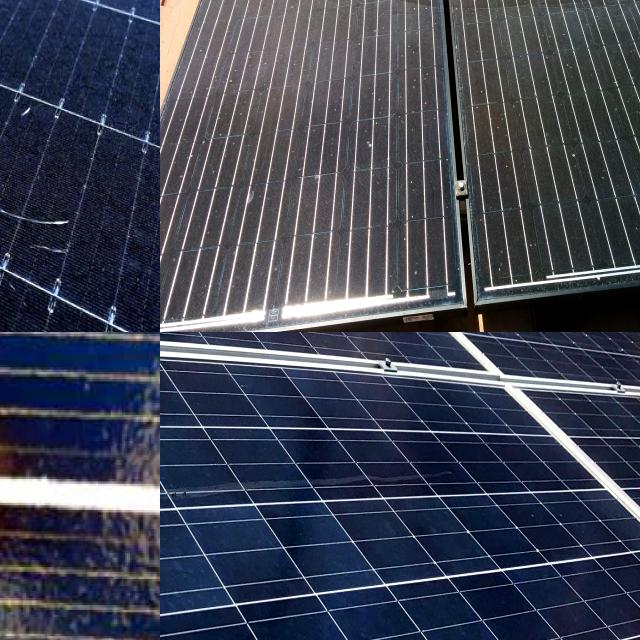bird: (0, 125, 117, 279)
dust: (230, 0, 428, 306), (292, 377, 485, 640), (457, 0, 585, 284), (160, 362, 274, 640), (590, 14, 640, 263), (291, 0, 410, 57), (438, 0, 547, 61)
shadow: (0, 368, 90, 595)
